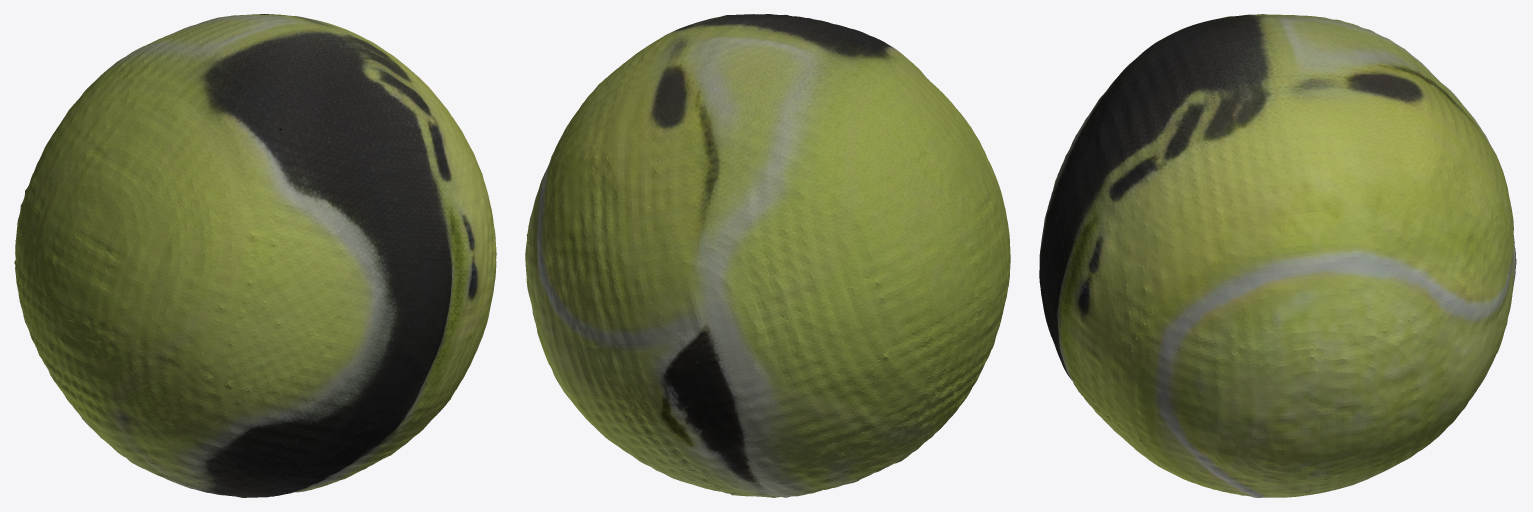
Rendered from instantmesh_recon.glb.
3 renders of one model, left to right at view 1: azimuth 30°, elevation 25°; view 2: azimuth 150°, elevation 25°; view 3: azimuth 270°, elevation 25°, orthographic.
Parts seen in each view (by area): view 1: world; view 2: world; view 3: world.
Part boxes in pixels (x1,y1,x2,y2): world: (14, 14, 496, 497); world: (525, 14, 1010, 497); world: (1039, 14, 1516, 497).
Size of the model in its own units: 0.0675 by 0.0674 by 0.0661.
Materials: 1 (1 with a texture image).
